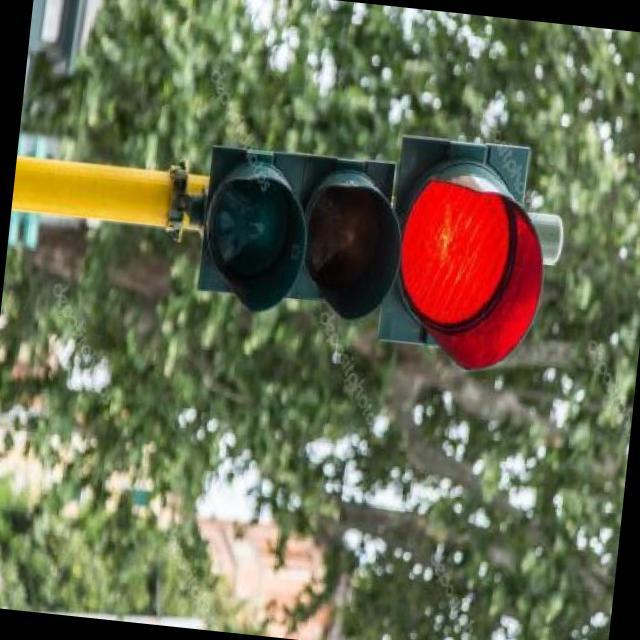red: (412, 168, 544, 349)
